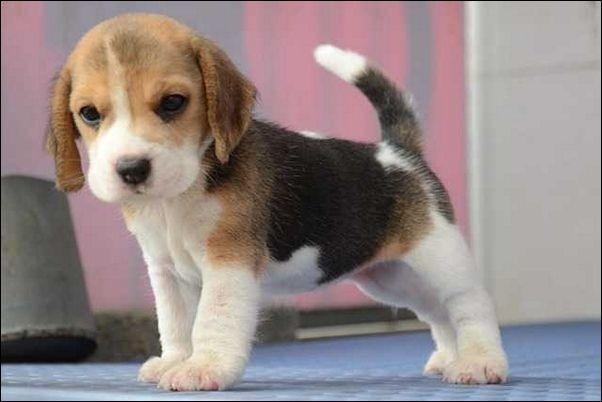puppy-dog: (47, 11, 509, 393)
